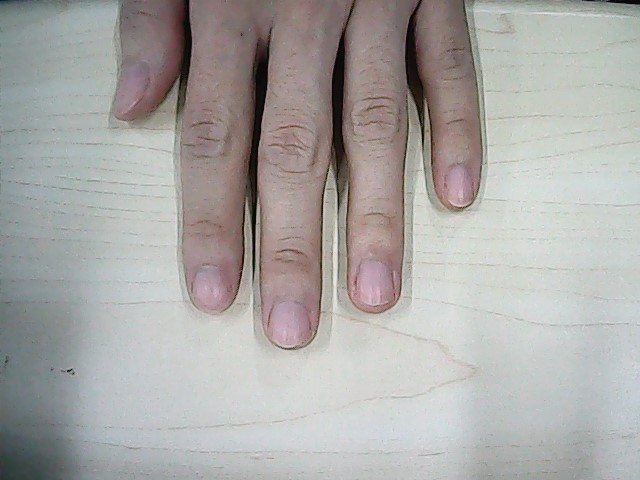nail: (267, 303, 312, 350), (112, 67, 150, 121), (192, 267, 232, 314), (356, 260, 394, 307), (443, 166, 475, 208)
